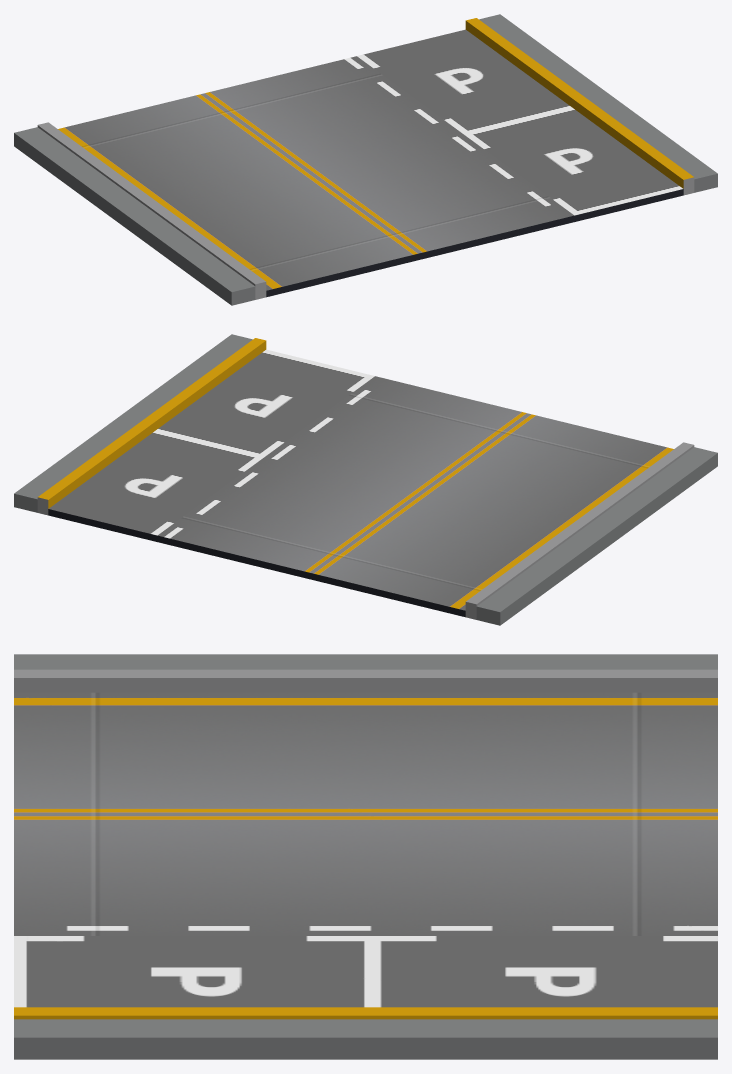
The model's file is Road5_Shoulder1.fbx.
3 renders of one model, top to bottom at view 1: azimuth 30°, elevation 25°; view 2: azimuth 150°, elevation 25°; view 3: azimuth 270°, elevation 25°, orthographic. The views are drawn at different scales.
Visible parts, largest first — view 1: Road5_Shoulder1; view 2: Road5_Shoulder1; view 3: Road5_Shoulder1.
Boxes of the visible parts, x1,y1,x2,y2 form: Road5_Shoulder1: [14, 14, 717, 305]; Road5_Shoulder1: [14, 334, 717, 625]; Road5_Shoulder1: [14, 654, 717, 1059].
Bounding box in the file's own units: 15.47 × 0.4753 × 12.
